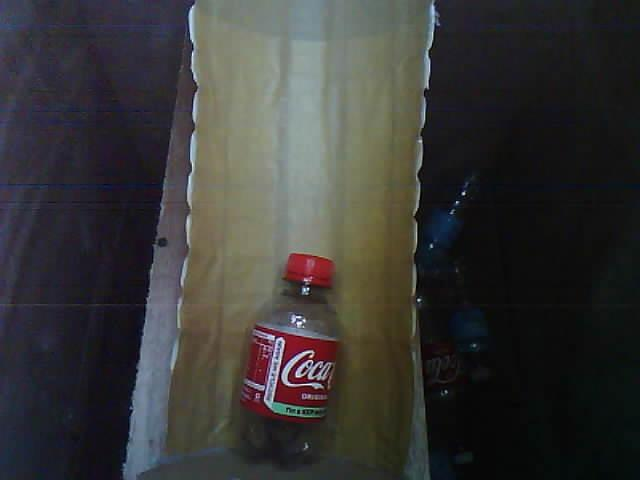small_bottle: (230, 244, 355, 480)
